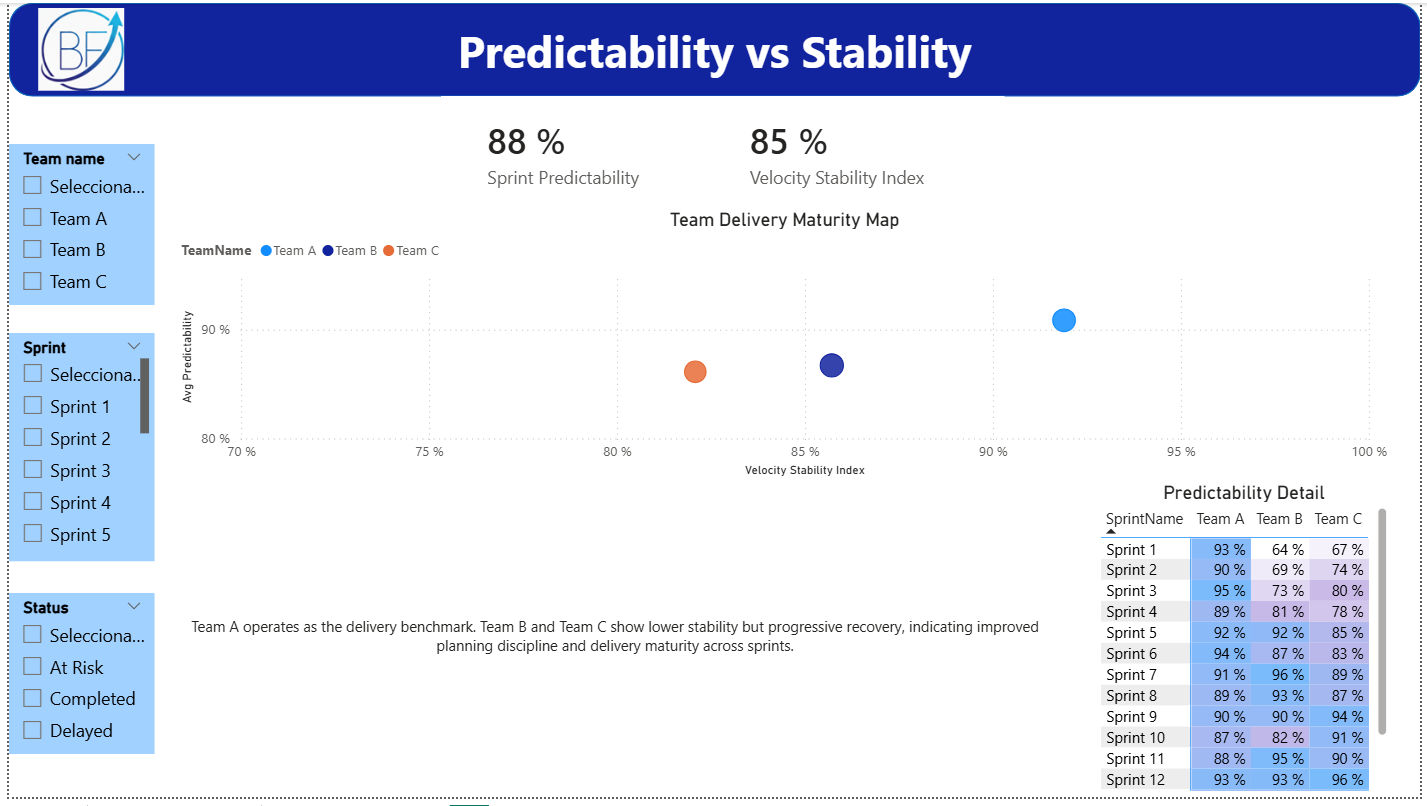

What the dashboard file says about the page in this screenshot:
{"tool":"powerbi","page":{"name":"Predictability vs Stability","canvas":[1280,720],"ordinal":1},"visuals":[{"type":"shape","box":[0,0,1280,84.8],"z":0},{"type":"slicer","fields":{"Values":["Agile_sprint.SprintName"]},"box":[0,299.7,132.4,206.8],"z":1000},{"type":"slicer","fields":{"Values":["Agile_sprint.TeamName"]},"box":[0,127.8,132.4,146.4],"z":2000},{"type":"slicer","fields":{"Values":["Agile_sprint.SprintStatus"]},"box":[0,535.5,132.4,146.4],"z":3000},{"type":"image","box":[24.4,4.6,82.5,75.5],"z":4000},{"type":"scatterChart","title":"Team Delivery Maturity Map","fields":{"Size":["Medidas DAX.Completed Story Points"],"Y":["Medidas DAX.Avg Predictability"],"X":["Medidas DAX.Velocity Stability Index"],"Series":["Agile_sprint.TeamName"]},"box":[151.2,185.4,1103.6,247.9],"z":5000},{"type":"pivotTable","title":"Predictability Detail","fields":{"Rows":["Agile_sprint.SprintName"],"Columns":["Agile_sprint.TeamName"],"Values":["Medidas DAX.Sprint Predictability %"]},"box":[984.7,433.4,270.1,286.2],"z":6000},{"type":"cardVisual","fields":{"Data":["Medidas DAX.Sprint Predictability %","Medidas DAX.Velocity Stability Index"]},"box":[392.1,84.7,511,102.8],"z":7000},{"type":"textbox","box":[151.2,551.3,796.2,60.5],"z":8000}]}

Visuals, with their boxes in screenshot pixels (x1, y1, x2, y2), scaled from the page's 1280x720 canvas onto the 1427x806 screenshot:
shape: <bbox>0, 0, 1426, 95</bbox>
slicer - Agile_sprint.SprintName: <bbox>0, 335, 148, 567</bbox>
slicer - Agile_sprint.TeamName: <bbox>0, 143, 148, 307</bbox>
slicer - Agile_sprint.SprintStatus: <bbox>0, 599, 148, 763</bbox>
image: <bbox>27, 5, 119, 90</bbox>
"Team Delivery Maturity Map" scatterChart: <bbox>169, 208, 1399, 485</bbox>
"Predictability Detail" pivotTable: <bbox>1098, 485, 1399, 805</bbox>
cardVisual - Medidas DAX.Sprint Predictability % x Medidas DAX.Velocity Stability Index: <bbox>437, 95, 1007, 210</bbox>
textbox: <bbox>169, 617, 1056, 685</bbox>
